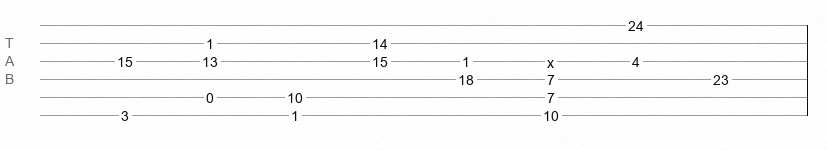0: (206, 90, 214, 100)
1: (206, 36, 214, 46), (291, 108, 299, 118), (462, 54, 470, 64)
10: (287, 90, 303, 100), (543, 108, 559, 118)
13: (202, 54, 218, 64)
14: (372, 36, 388, 46)
15: (117, 54, 133, 64), (372, 54, 388, 64)
18: (458, 72, 474, 82)
23: (713, 72, 729, 82)
24: (628, 18, 644, 28)
3: (121, 108, 129, 118)
4: (632, 54, 640, 64)
7: (547, 72, 555, 82), (547, 90, 555, 100)
x: (547, 55, 554, 63)
